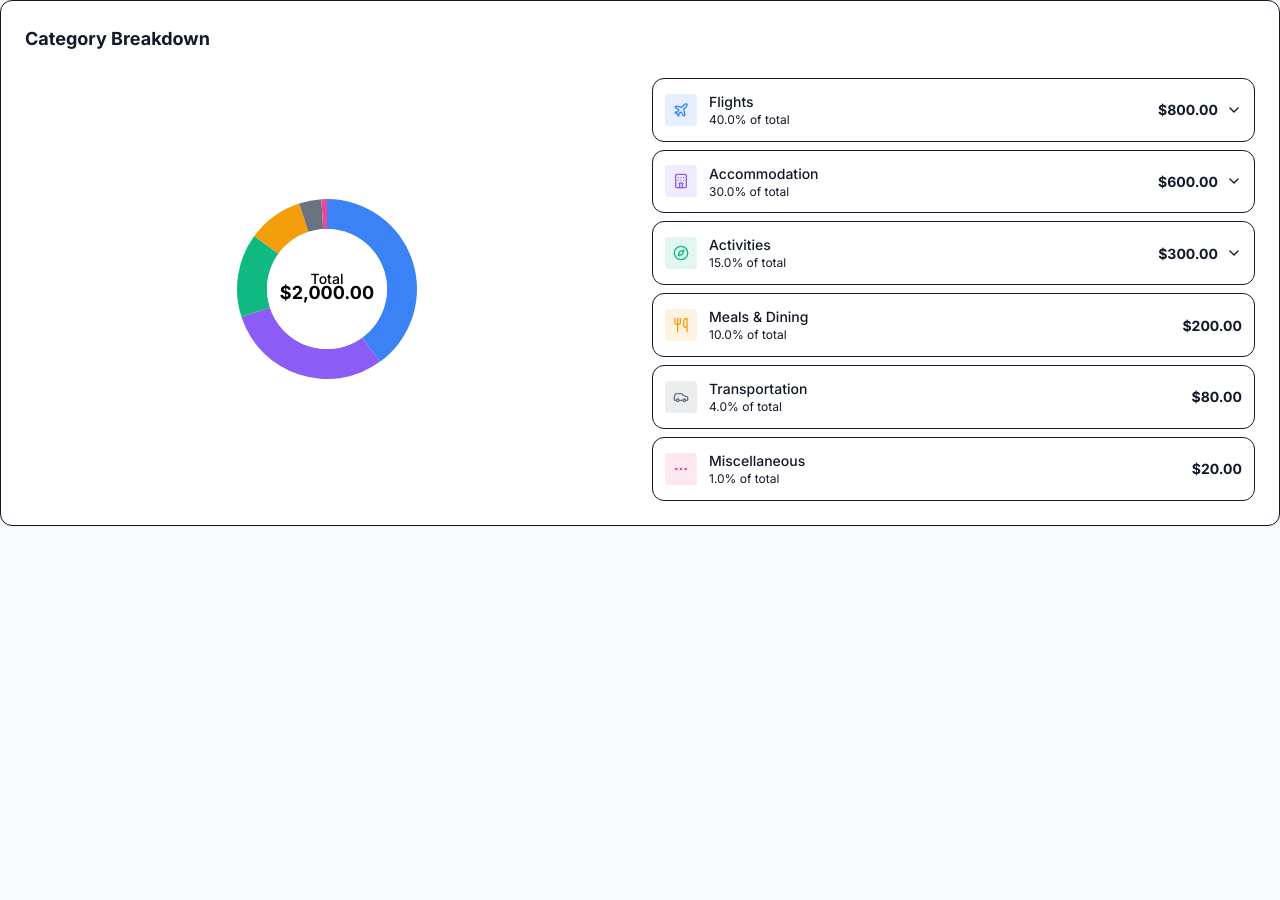
Test case: CategoryBreakdown › Category Expansion › expands category to show itemized costs when clicked
The image size is (1280, 900).
Expected: the text "Outbound Flight" is not shown
// Click on flights category
Click the button "Flights 40.0% of total $800.00" at point(681, 110), box [653,79,1254,141]
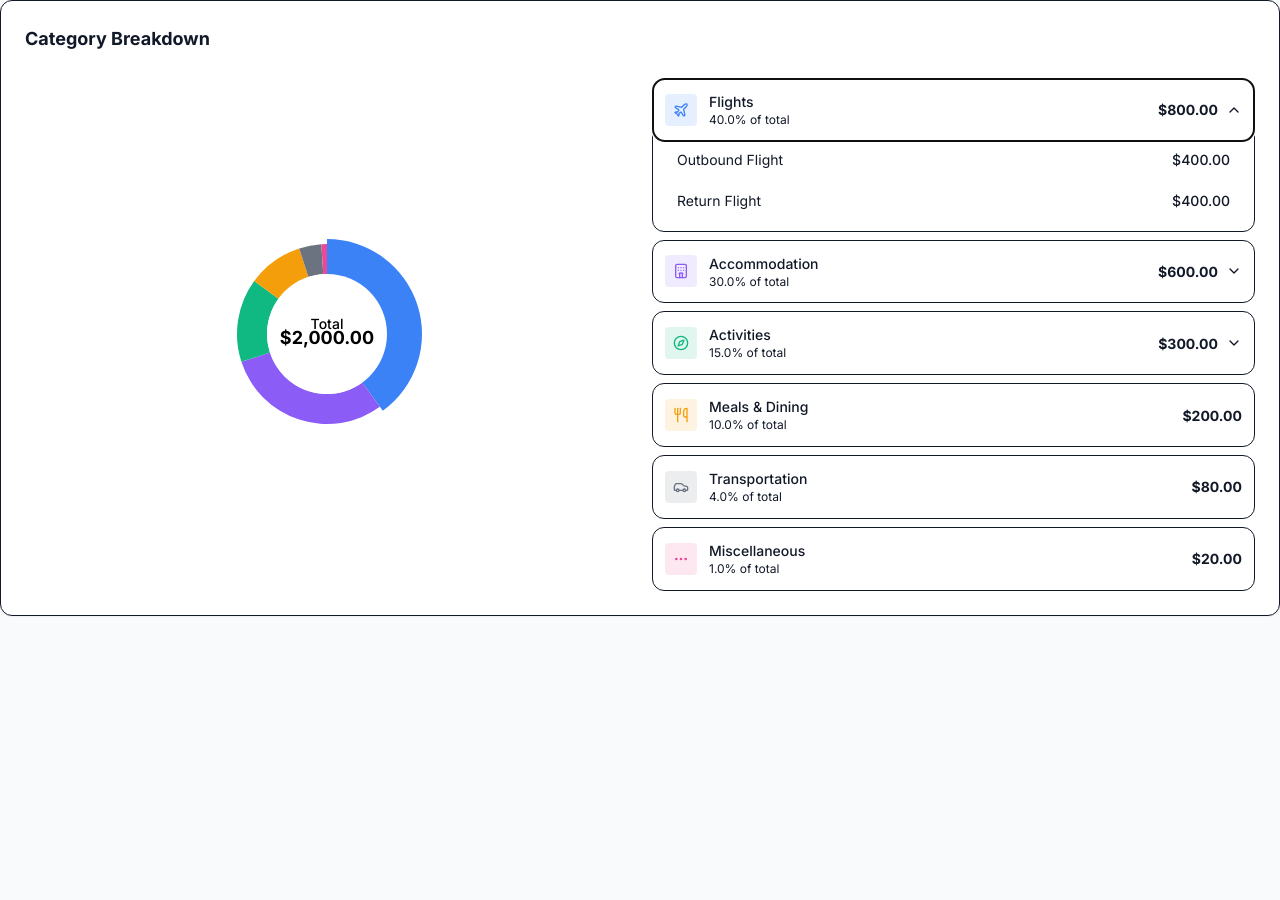
Now the text "Outbound Flight" is shown, box [677,149,783,170]
Now the text "Return Flight" is shown, box [677,190,761,211]
